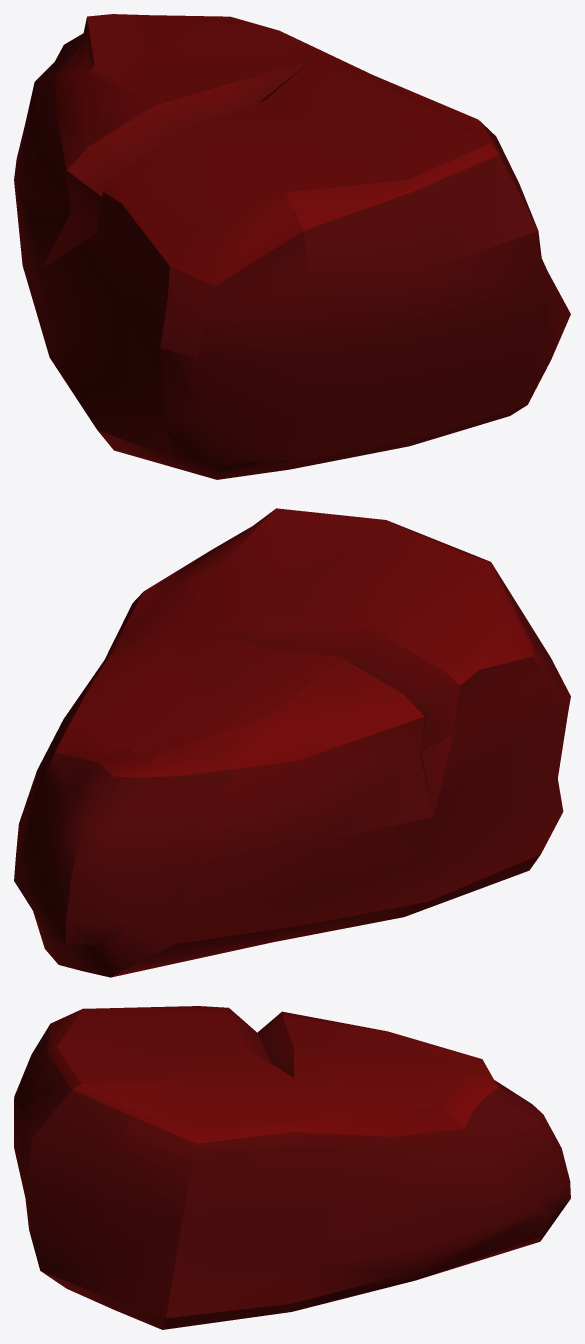
File: geology-pebbles-sharppebble_v7.fbx
3 views of the same model, one above another, from view 1: azimuth 30°, elevation 25°; view 2: azimuth 150°, elevation 25°; view 3: azimuth 270°, elevation 25° (orthographic). The views are drawn at different scales.
Visible parts, largest first — view 1: SharpPebble_v7; view 2: SharpPebble_v7; view 3: SharpPebble_v7.
Part boxes in pixels (x1,y1,x2,y2): SharpPebble_v7: (14, 14, 570, 479); SharpPebble_v7: (14, 508, 570, 977); SharpPebble_v7: (14, 1006, 570, 1329).
Size of the model in its own units: 8.69 by 4.71 by 11.76.
